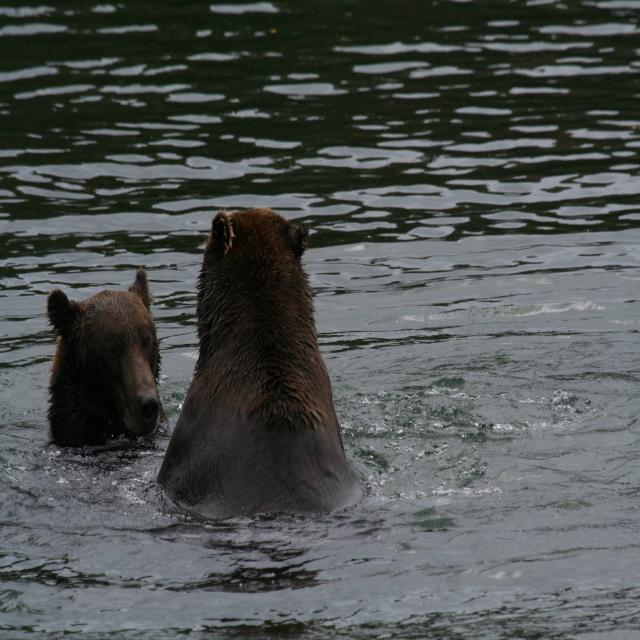bear face: (172, 208, 342, 502), (46, 272, 164, 434)
